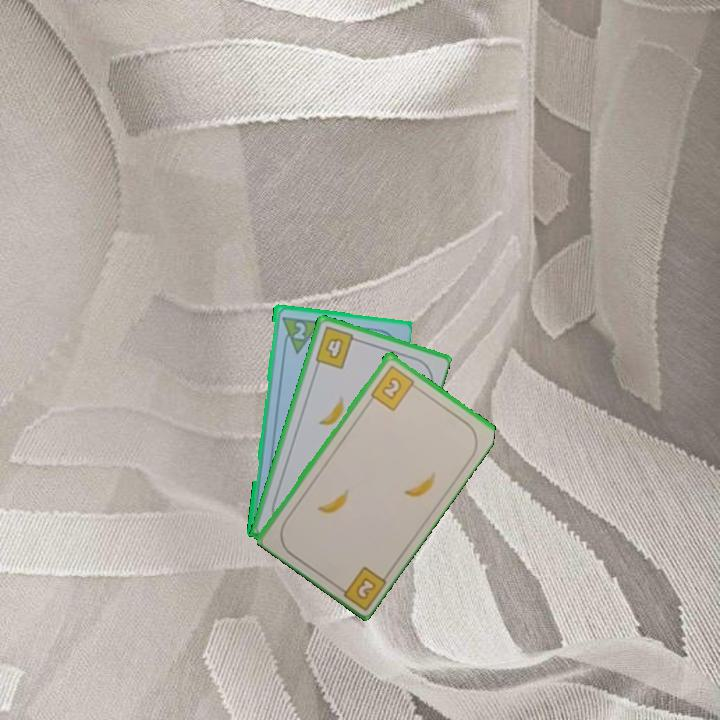2b: (367, 361, 421, 413), (332, 562, 389, 611)
2p: (289, 318, 308, 342)
4b: (311, 323, 362, 372)
